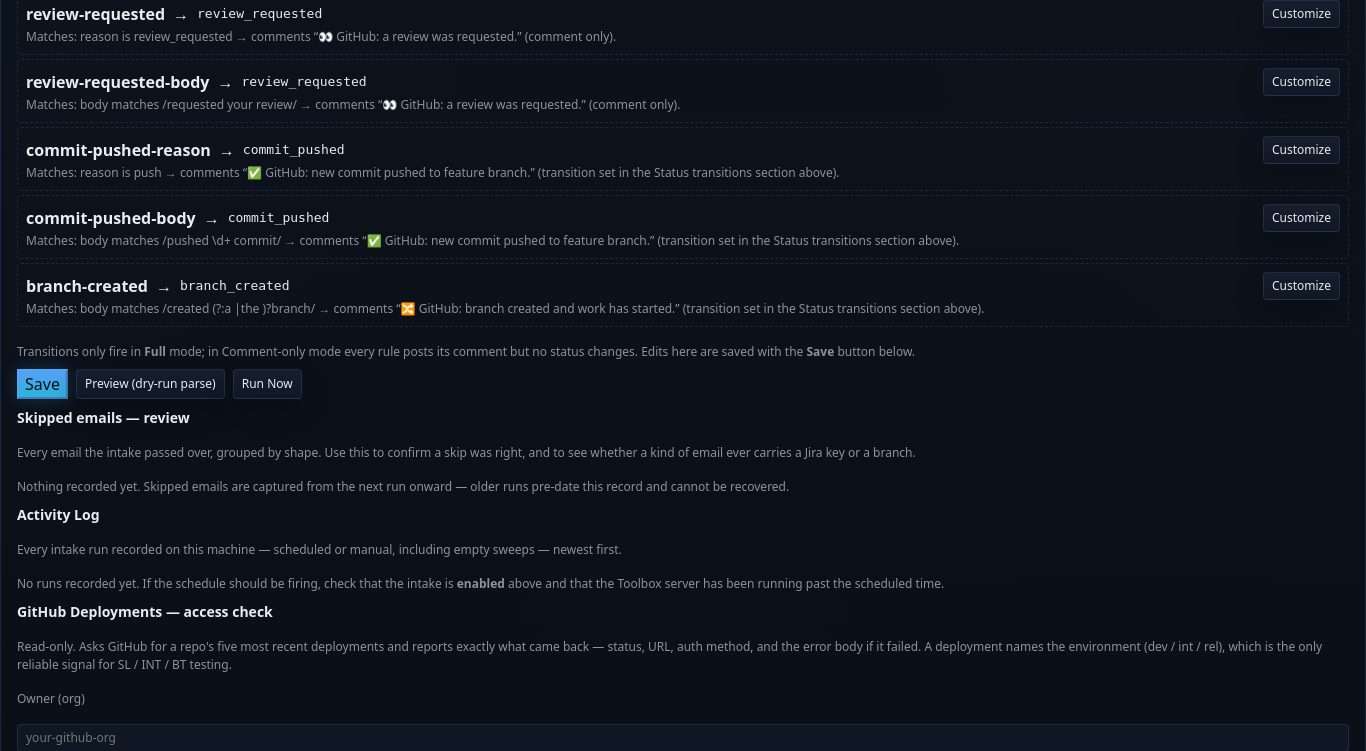
Test: GithubEmailIntakePanel › shows the pull outcome AND a busy state at the action buttons in an SP-only setup
(page scrolled)
Click the button "Run Now".
click(267, 384)  # box [233,369,302,399]
(page scrolled)
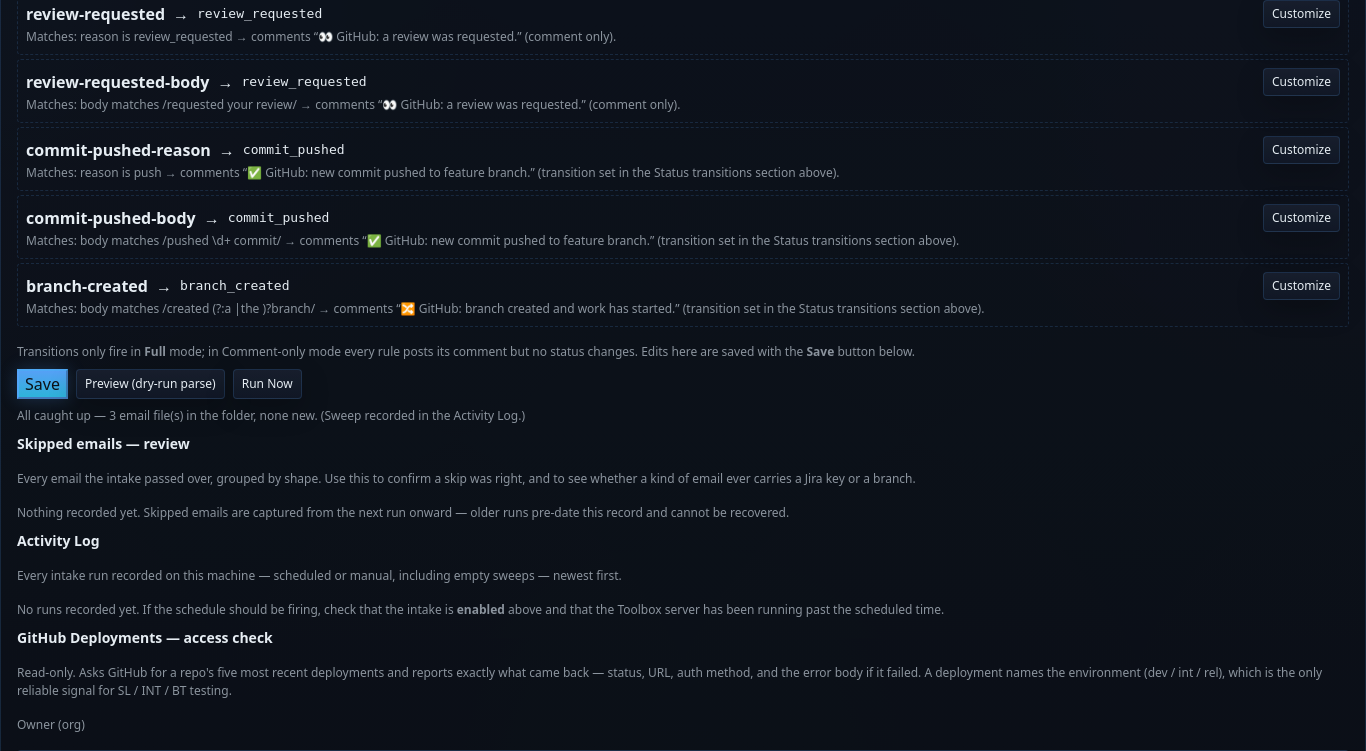
Expected: the text "all caught up" is shown 2 times
